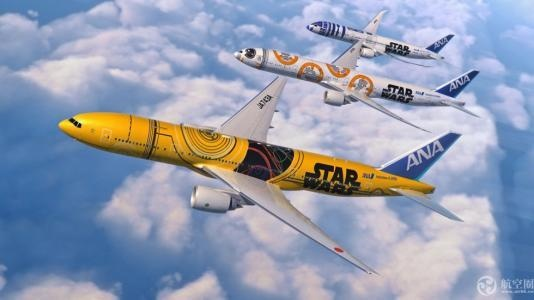airplane: (57, 76, 463, 224), (225, 35, 490, 115), (306, 3, 456, 62)
